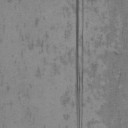surface scratch: (75, 0, 85, 128)
